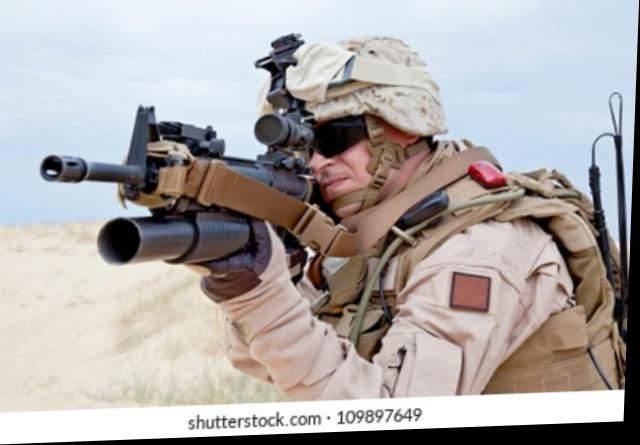other: (250, 37, 611, 398)
